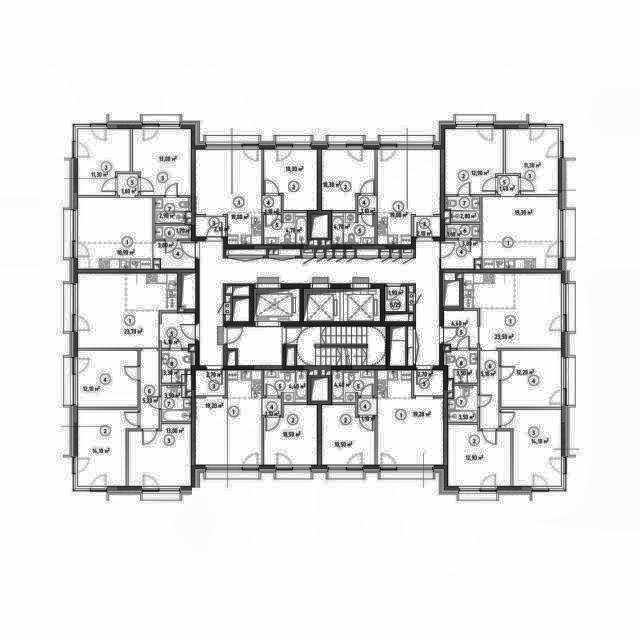room: (199, 241, 439, 366), (195, 150, 281, 245), (195, 370, 281, 465), (358, 370, 443, 465), (358, 149, 441, 245), (77, 273, 177, 348), (463, 273, 561, 348), (482, 196, 558, 269), (78, 197, 153, 269), (500, 409, 562, 486), (77, 409, 138, 487), (286, 326, 386, 366), (128, 423, 191, 486), (448, 425, 511, 486), (133, 129, 191, 195), (445, 129, 503, 195), (77, 129, 130, 196), (505, 128, 558, 195), (501, 350, 561, 407), (78, 350, 138, 407), (263, 149, 317, 210), (321, 149, 375, 210), (264, 405, 317, 465), (322, 405, 375, 465), (227, 326, 282, 366), (479, 350, 499, 428), (140, 350, 159, 429), (264, 370, 307, 403), (332, 370, 375, 403), (332, 212, 375, 245), (264, 213, 307, 245), (444, 311, 478, 348), (441, 240, 481, 269), (161, 313, 194, 348), (443, 350, 477, 383), (155, 241, 195, 269), (161, 385, 191, 422), (448, 386, 477, 422), (161, 350, 191, 384), (155, 197, 191, 223), (445, 196, 480, 222), (256, 294, 292, 316), (414, 370, 443, 396), (308, 294, 333, 321), (348, 294, 372, 320), (155, 225, 191, 239), (385, 287, 406, 311), (445, 224, 480, 238), (117, 174, 138, 195), (498, 176, 518, 195)
